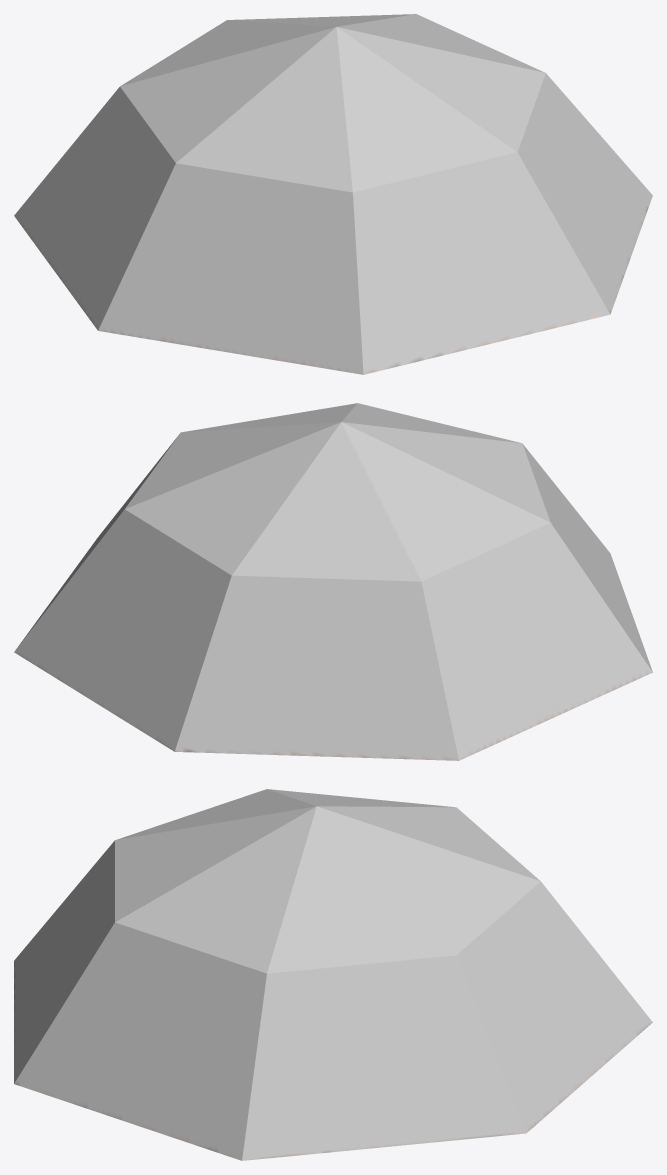
The model's file is Operating Lamp.glb.
3 views of the same model, one above another, from view 1: azimuth 30°, elevation 25°; view 2: azimuth 150°, elevation 25°; view 3: azimuth 270°, elevation 25° (orthographic). The views are drawn at different scales.
Parts seen in each view (by area): view 1: Cone; view 2: Cone; view 3: Cone.
Part boxes in pixels (x1,y1,x2,y2): Cone: (14, 14, 652, 374); Cone: (14, 403, 652, 760); Cone: (14, 789, 652, 1160).
Size of the model in its own units: 2.34 by 0.8468 by 2.28.
Materials: 1 (1 with a texture image).
